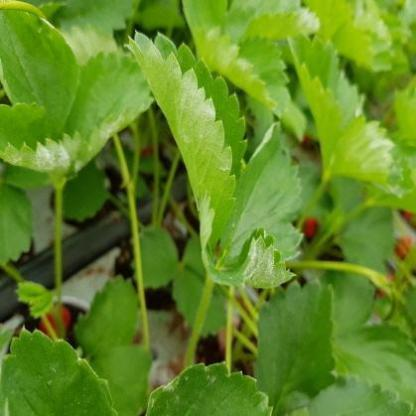Strawberry_Powdery_Mildew_Leaf: (123, 28, 248, 264), (196, 192, 299, 289), (0, 100, 115, 180), (64, 48, 155, 141), (327, 113, 415, 199), (144, 362, 273, 415)
